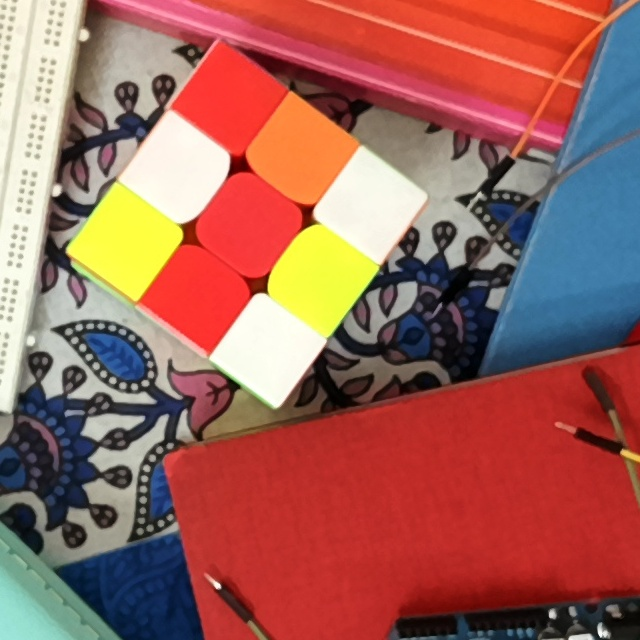tile: (270, 122, 331, 181), (293, 245, 351, 305), (219, 195, 278, 253), (198, 73, 260, 128), (95, 216, 154, 273), (239, 321, 297, 378), (150, 144, 206, 200), (344, 175, 399, 230), (171, 270, 226, 323)
